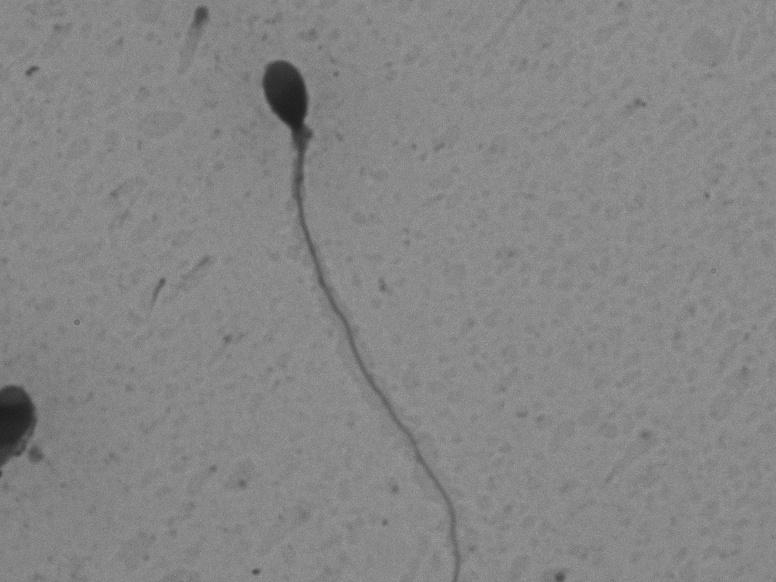Abnormal: (247, 30, 477, 576)
